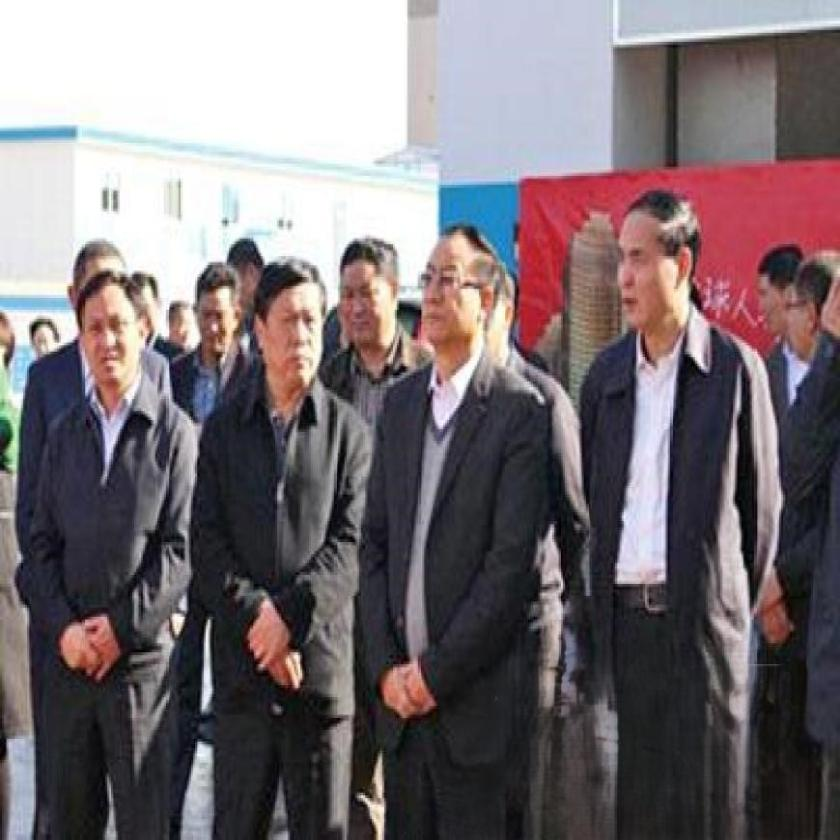Sin_casco: (603, 150, 706, 349), (418, 222, 501, 368), (251, 243, 322, 404), (72, 276, 147, 401), (333, 227, 402, 360), (783, 243, 840, 349), (187, 254, 242, 354), (756, 232, 804, 338)
